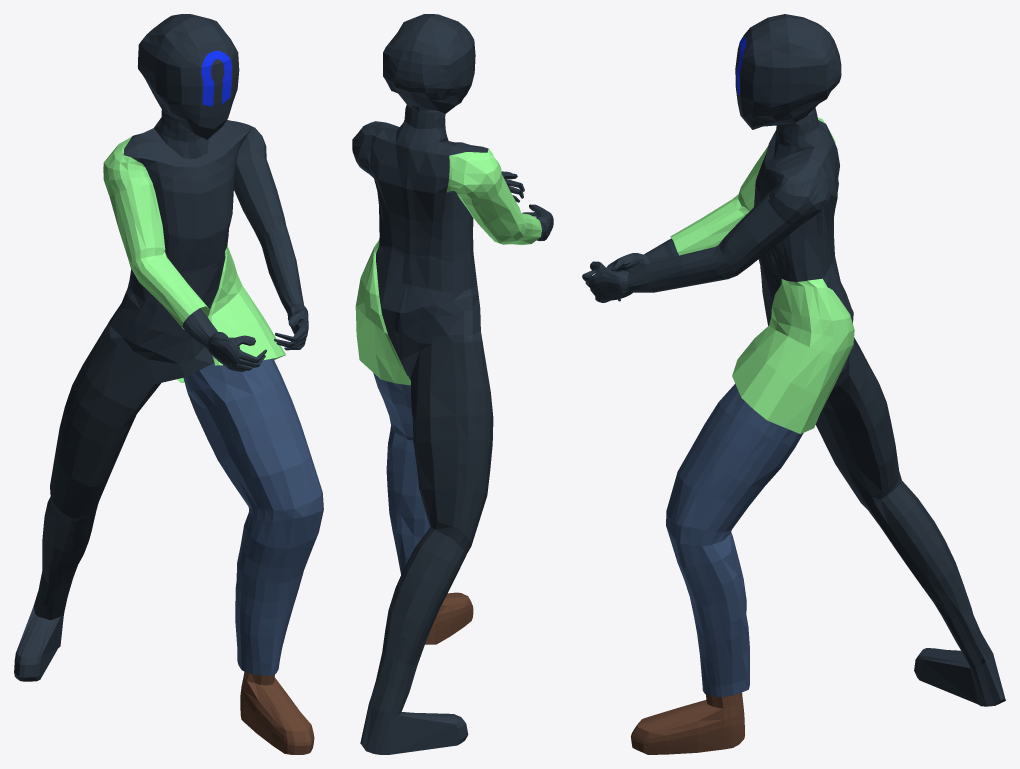
The model's file is Mar_Recover_000033.obj.
The picture shows the model from 3 angles, left to right: view 1: azimuth 30°, elevation 25°; view 2: azimuth 150°, elevation 25°; view 3: azimuth 270°, elevation 25°; orthographic projection. The views are drawn at different scales.
Parts seen in each view (by area): view 1: Cube.000_Cube.001; view 2: Cube.000_Cube.001; view 3: Cube.000_Cube.001.
Part boxes in pixels (x1,y1,x2,y2): Cube.000_Cube.001: [14, 14, 323, 754]; Cube.000_Cube.001: [352, 14, 553, 754]; Cube.000_Cube.001: [582, 14, 1005, 754].
Bounding box in the file's own units: 1.08 × 3.75 × 2.03.
